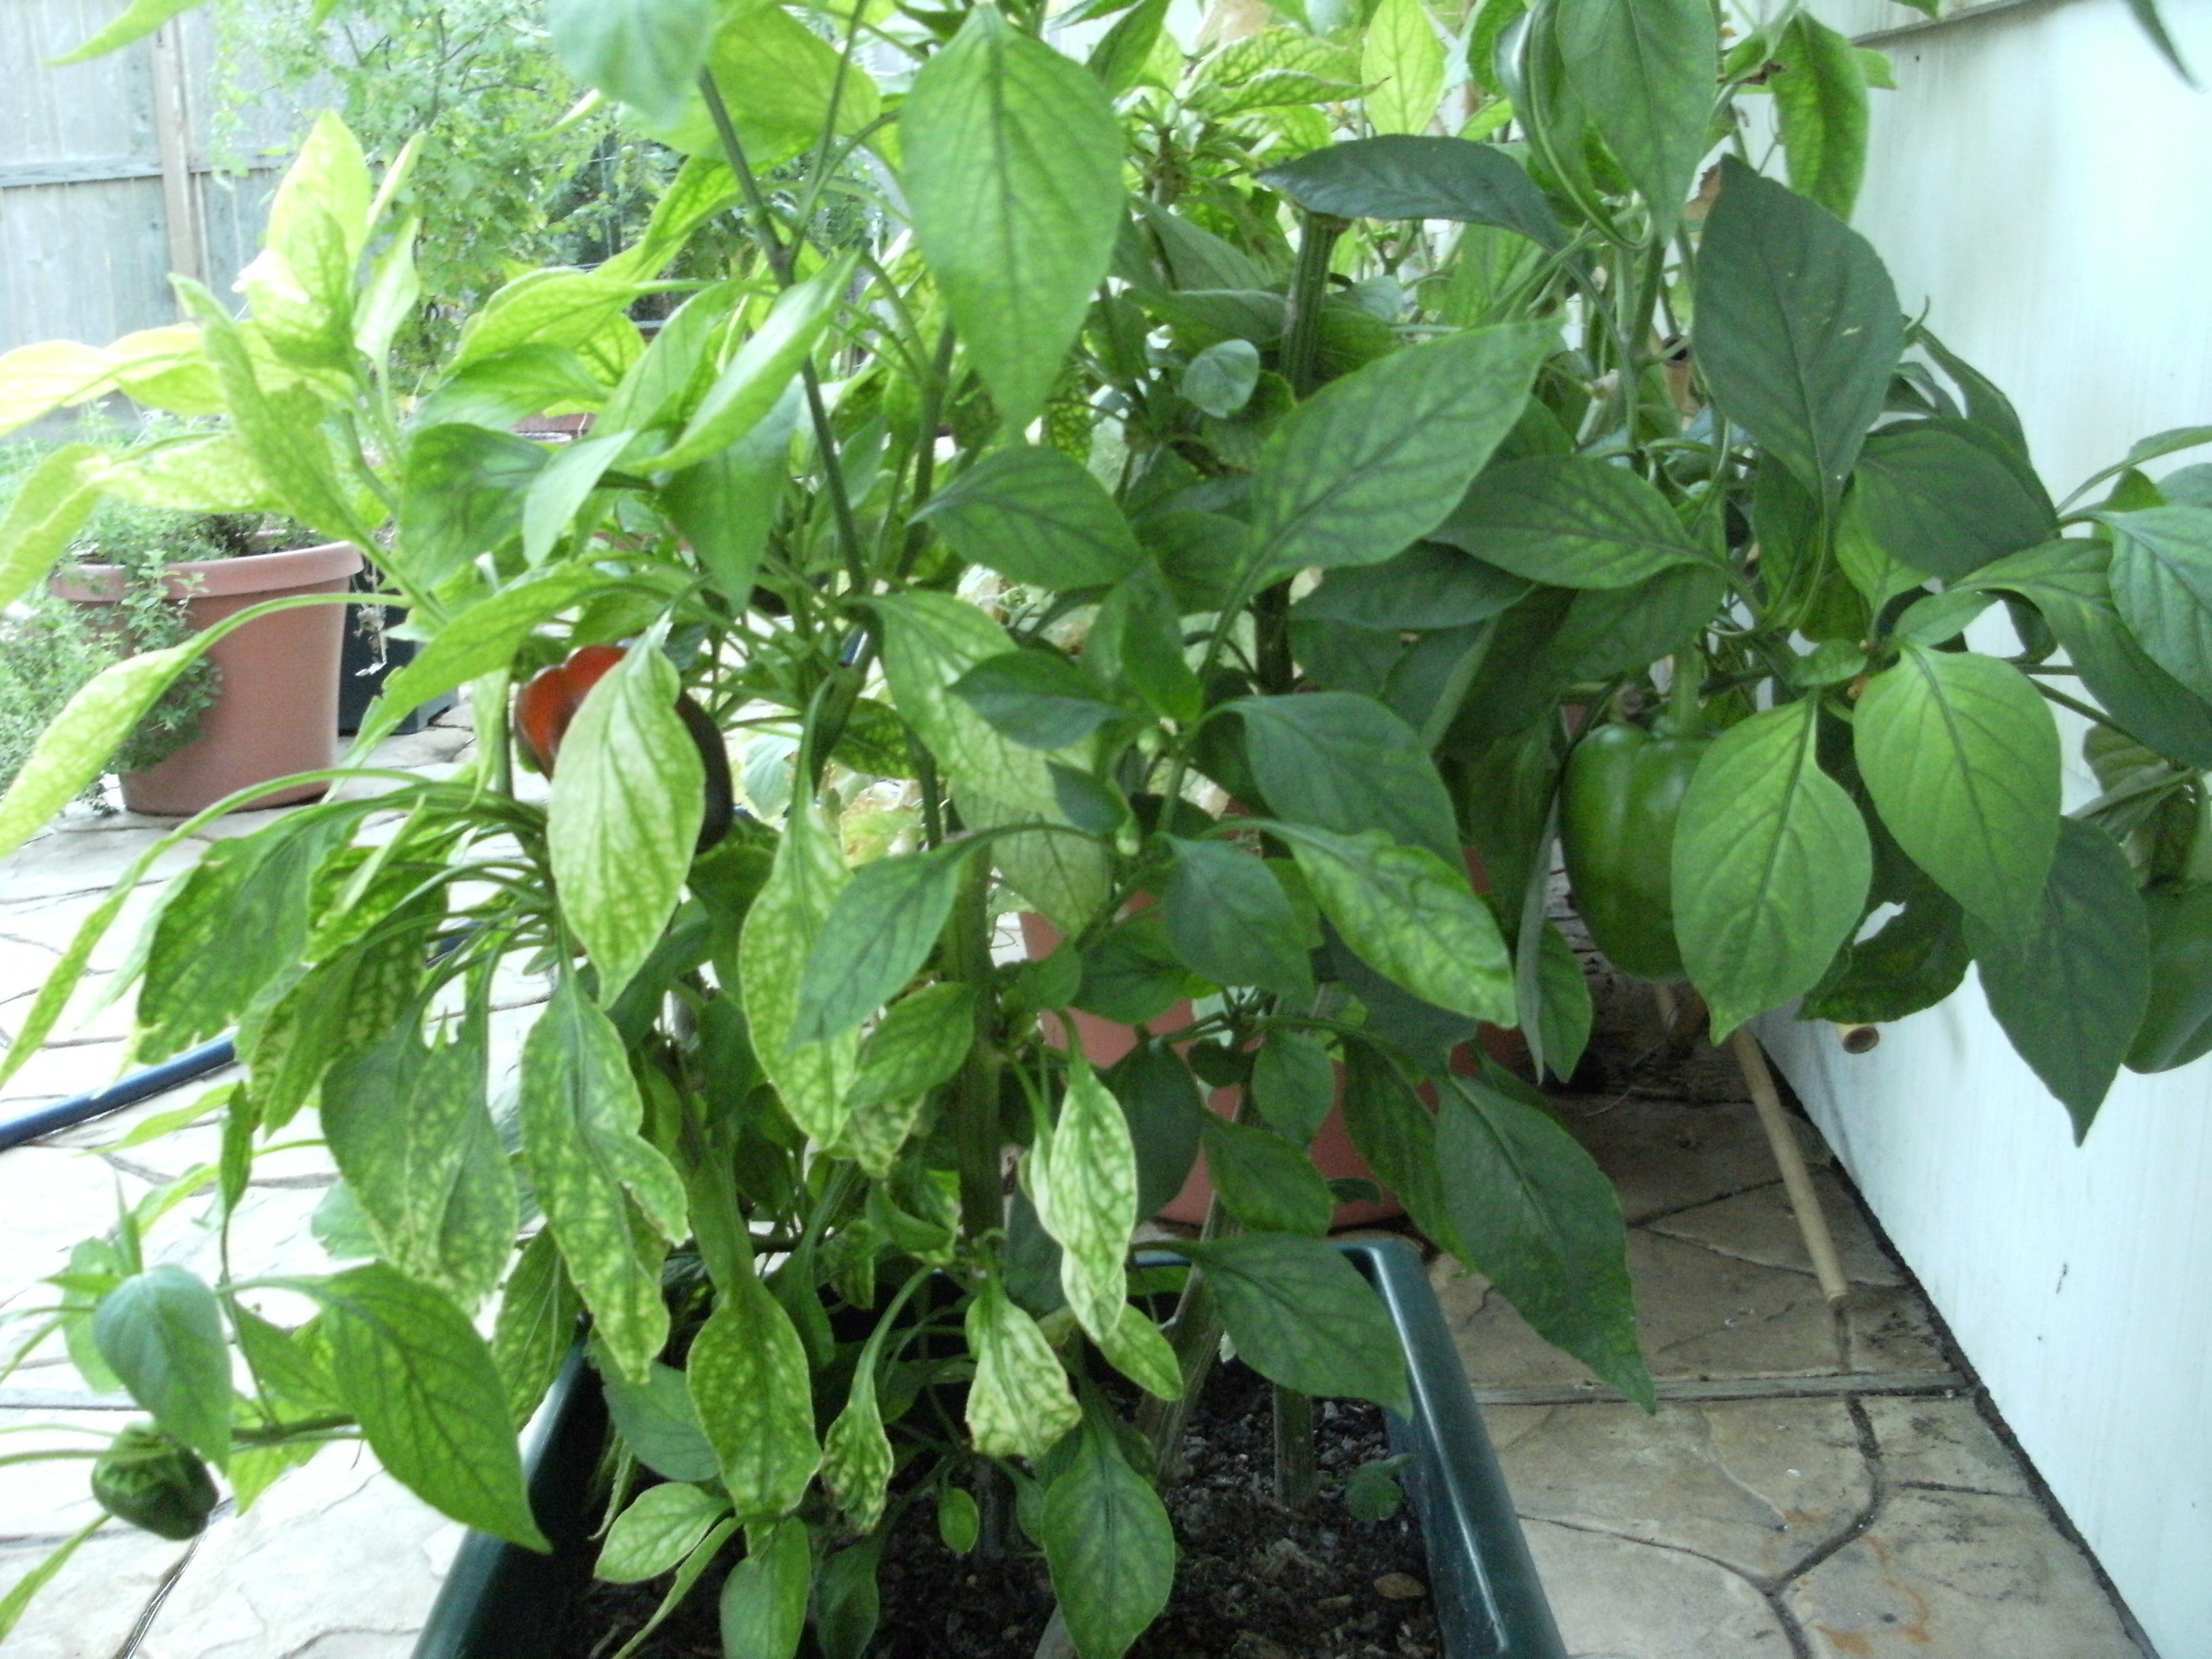Bell_pepper leaf spot: (838, 568, 1127, 948), (1214, 314, 1564, 603), (897, 10, 1116, 434), (498, 986, 714, 1391), (1653, 704, 1895, 1049), (1691, 146, 1898, 518), (536, 633, 725, 995), (1851, 634, 2069, 929), (737, 814, 899, 1150), (904, 443, 1153, 617)
